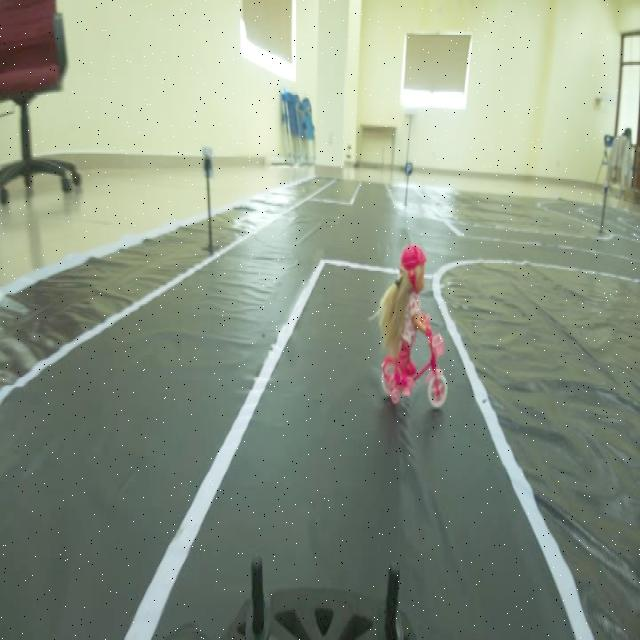pedestrian: (374, 241, 449, 415)
